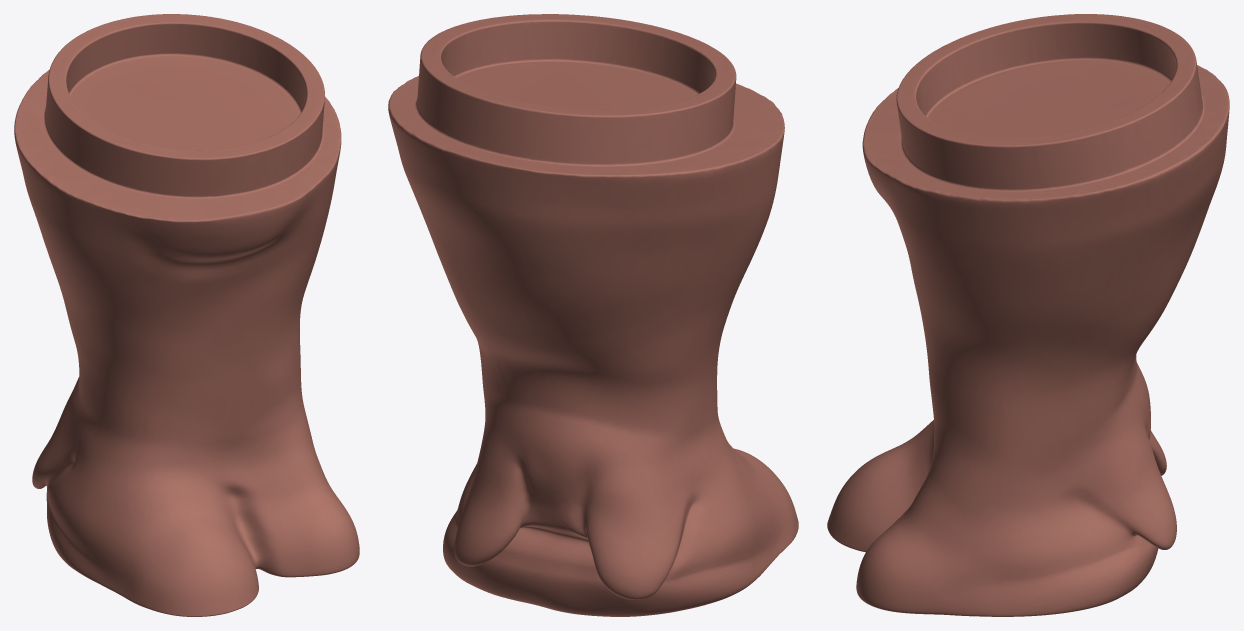
Rendered from Patte_Cochon_rg.glb.
3 views of the same model, side by side, from view 1: azimuth 30°, elevation 25°; view 2: azimuth 150°, elevation 25°; view 3: azimuth 270°, elevation 25° (orthographic). The views are drawn at different scales.
Parts seen in each view (by area): view 1: Patte_Pig_rg; view 2: Patte_Pig_rg; view 3: Patte_Pig_rg.
Boxes of the visible parts, x1,y1,x2,y2 form: Patte_Pig_rg: [14, 14, 359, 616]; Patte_Pig_rg: [388, 14, 798, 616]; Patte_Pig_rg: [827, 14, 1229, 616].
Bounding box in the file's own units: 1.53 × 2.27 × 1.66.
